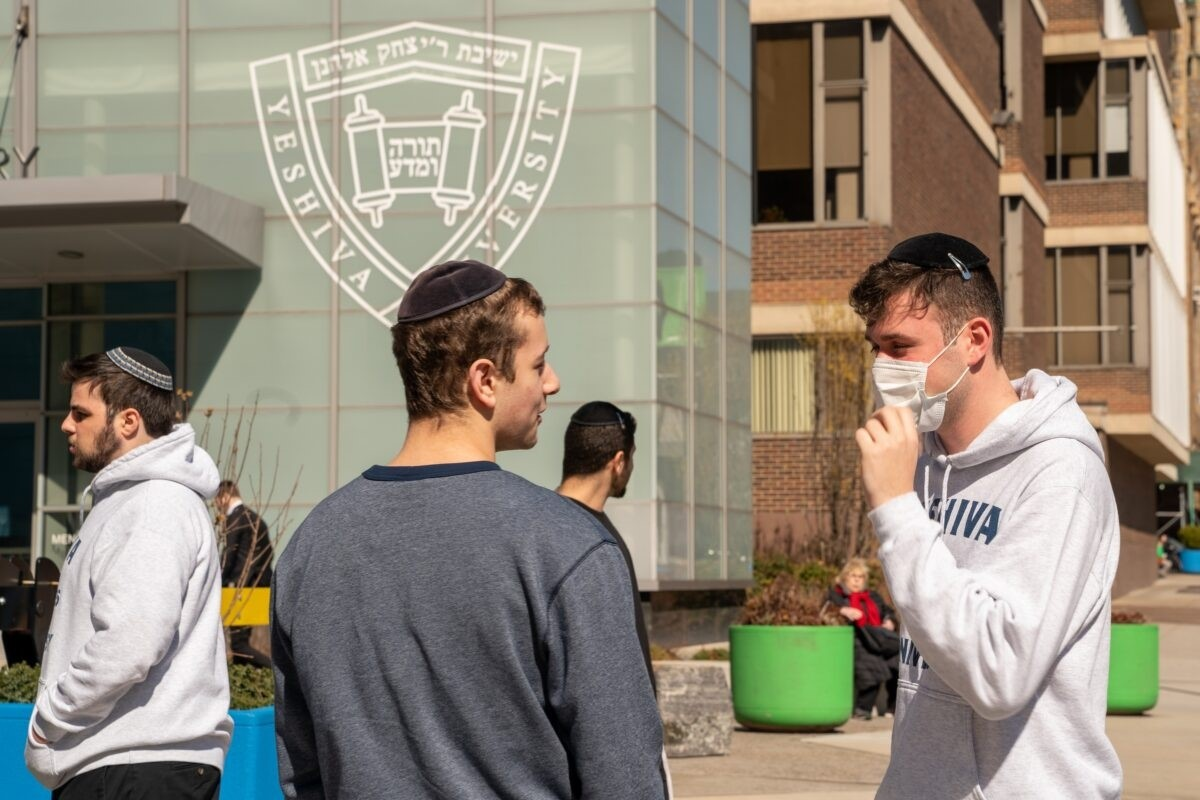face_no_mask: (402, 256, 558, 465), (55, 345, 175, 480)
face_with_mask: (853, 233, 1005, 443)
